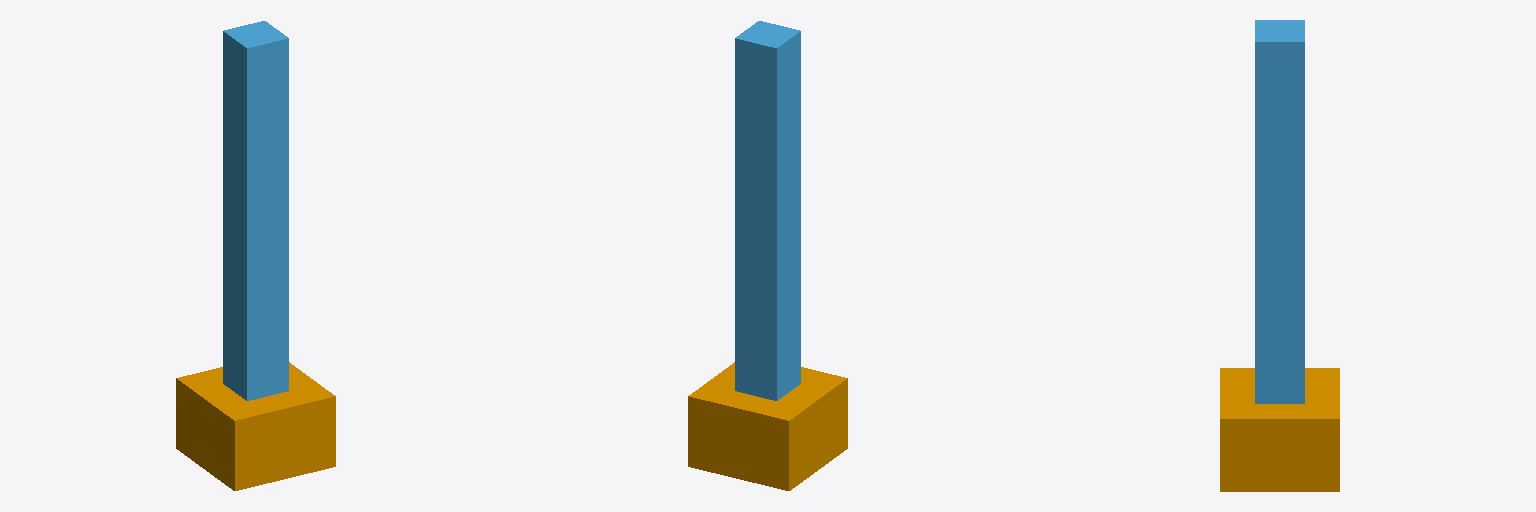
robot.urdf — m5_pendulum:
<?xml version="1.0"?>
<!-- 1-DOF fixed-base revolute pendulum with a TIGHT joint limit (±0.4 rad) for
     verifying AffineBodyRevoluteJointLimit in ipc_monolithic mode. Link points +z;
     under gravity it is driven into the limit. -->
<robot name="m5_pendulum">
  <link name="base">
    <inertial>
      <origin xyz="0 0 0.04"/>
      <mass value="3.0"/>
      <inertia ixx="0.01" iyy="0.01" izz="0.01" ixy="0" ixz="0" iyz="0"/>
    </inertial>
    <collision>
      <origin xyz="0 0 0.04"/>
      <geometry><box size="0.12 0.12 0.08"/></geometry>
    </collision>
    <visual>
      <origin xyz="0 0 0.04"/>
      <geometry><box size="0.12 0.12 0.08"/></geometry>
    </visual>
  </link>

  <link name="link1">
    <inertial>
      <origin xyz="0 0 0.20"/>
      <mass value="0.8"/>
      <inertia ixx="0.012" iyy="0.012" izz="0.001" ixy="0" ixz="0" iyz="0"/>
    </inertial>
    <collision>
      <origin xyz="0 0 0.20"/>
      <geometry><box size="0.05 0.05 0.40"/></geometry>
    </collision>
    <visual>
      <origin xyz="0 0 0.20"/>
      <geometry><box size="0.05 0.05 0.40"/></geometry>
    </visual>
  </link>

  <joint name="j1" type="revolute">
    <parent link="base"/>
    <child link="link1"/>
    <origin xyz="0 0 0.08"/>
    <axis xyz="0 1 0"/>
    <limit lower="-0.4" upper="0.4" effort="100" velocity="10"/>
  </joint>
</robot>

--- Facts derived from the render (not from the file) ---
The picture shows the robot from 3 angles, left to right: view 1: azimuth 30°, elevation 25°; view 2: azimuth 150°, elevation 25°; view 3: azimuth 270°, elevation 25°; orthographic projection.
Model m5_pendulum with 2 links and 1 joints (1 revolute), rooted at base, posed all joints at 0.
Links seen in each view (by area): view 1: link1, base; view 2: link1, base; view 3: link1, base.
Boxes of the visible links, x1,y1,x2,y2 form: link1: (223,21,288,400); base: (176,362,335,490); link1: (735,21,800,400); base: (688,362,847,490); link1: (1255,20,1304,403); base: (1220,368,1339,491).
Bounding box of the posed robot: 0.12 × 0.12 × 0.48 m (x, y, z).
Geometry: primitives only (box / cylinder / sphere), no mesh files.
